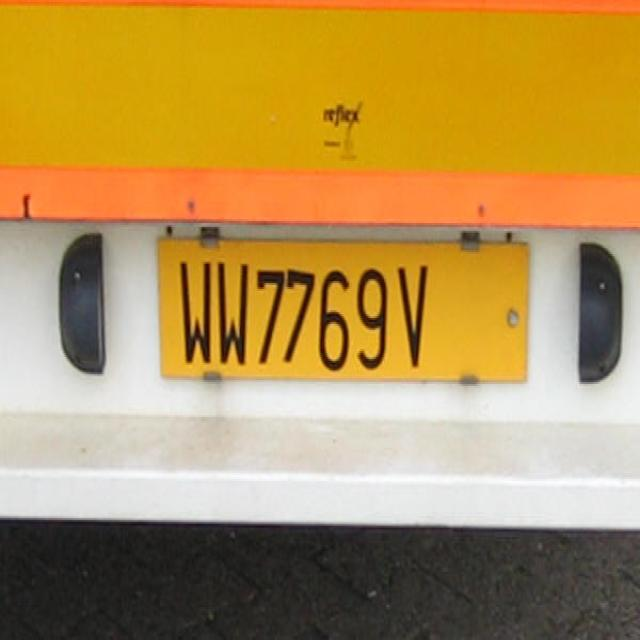pl_license_plate: (157, 237, 527, 378)
